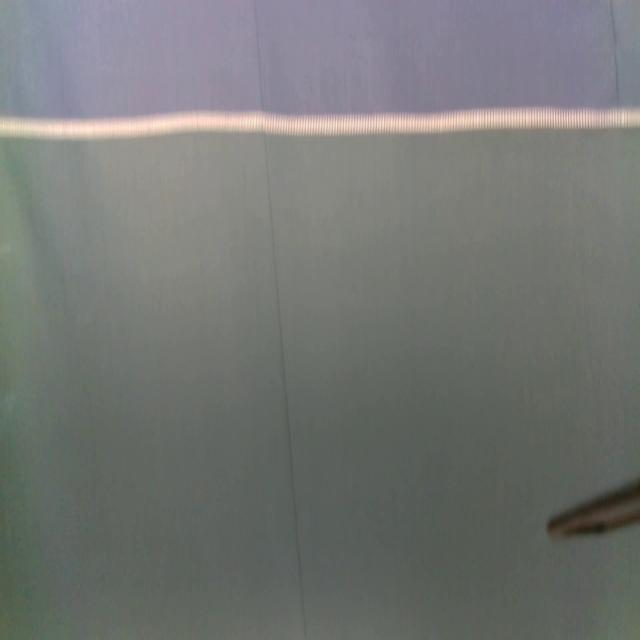crease: (255, 2, 309, 639), (607, 0, 621, 109)
